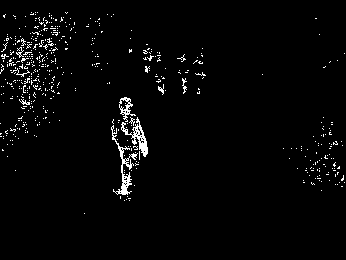person: (111, 96, 149, 197)
